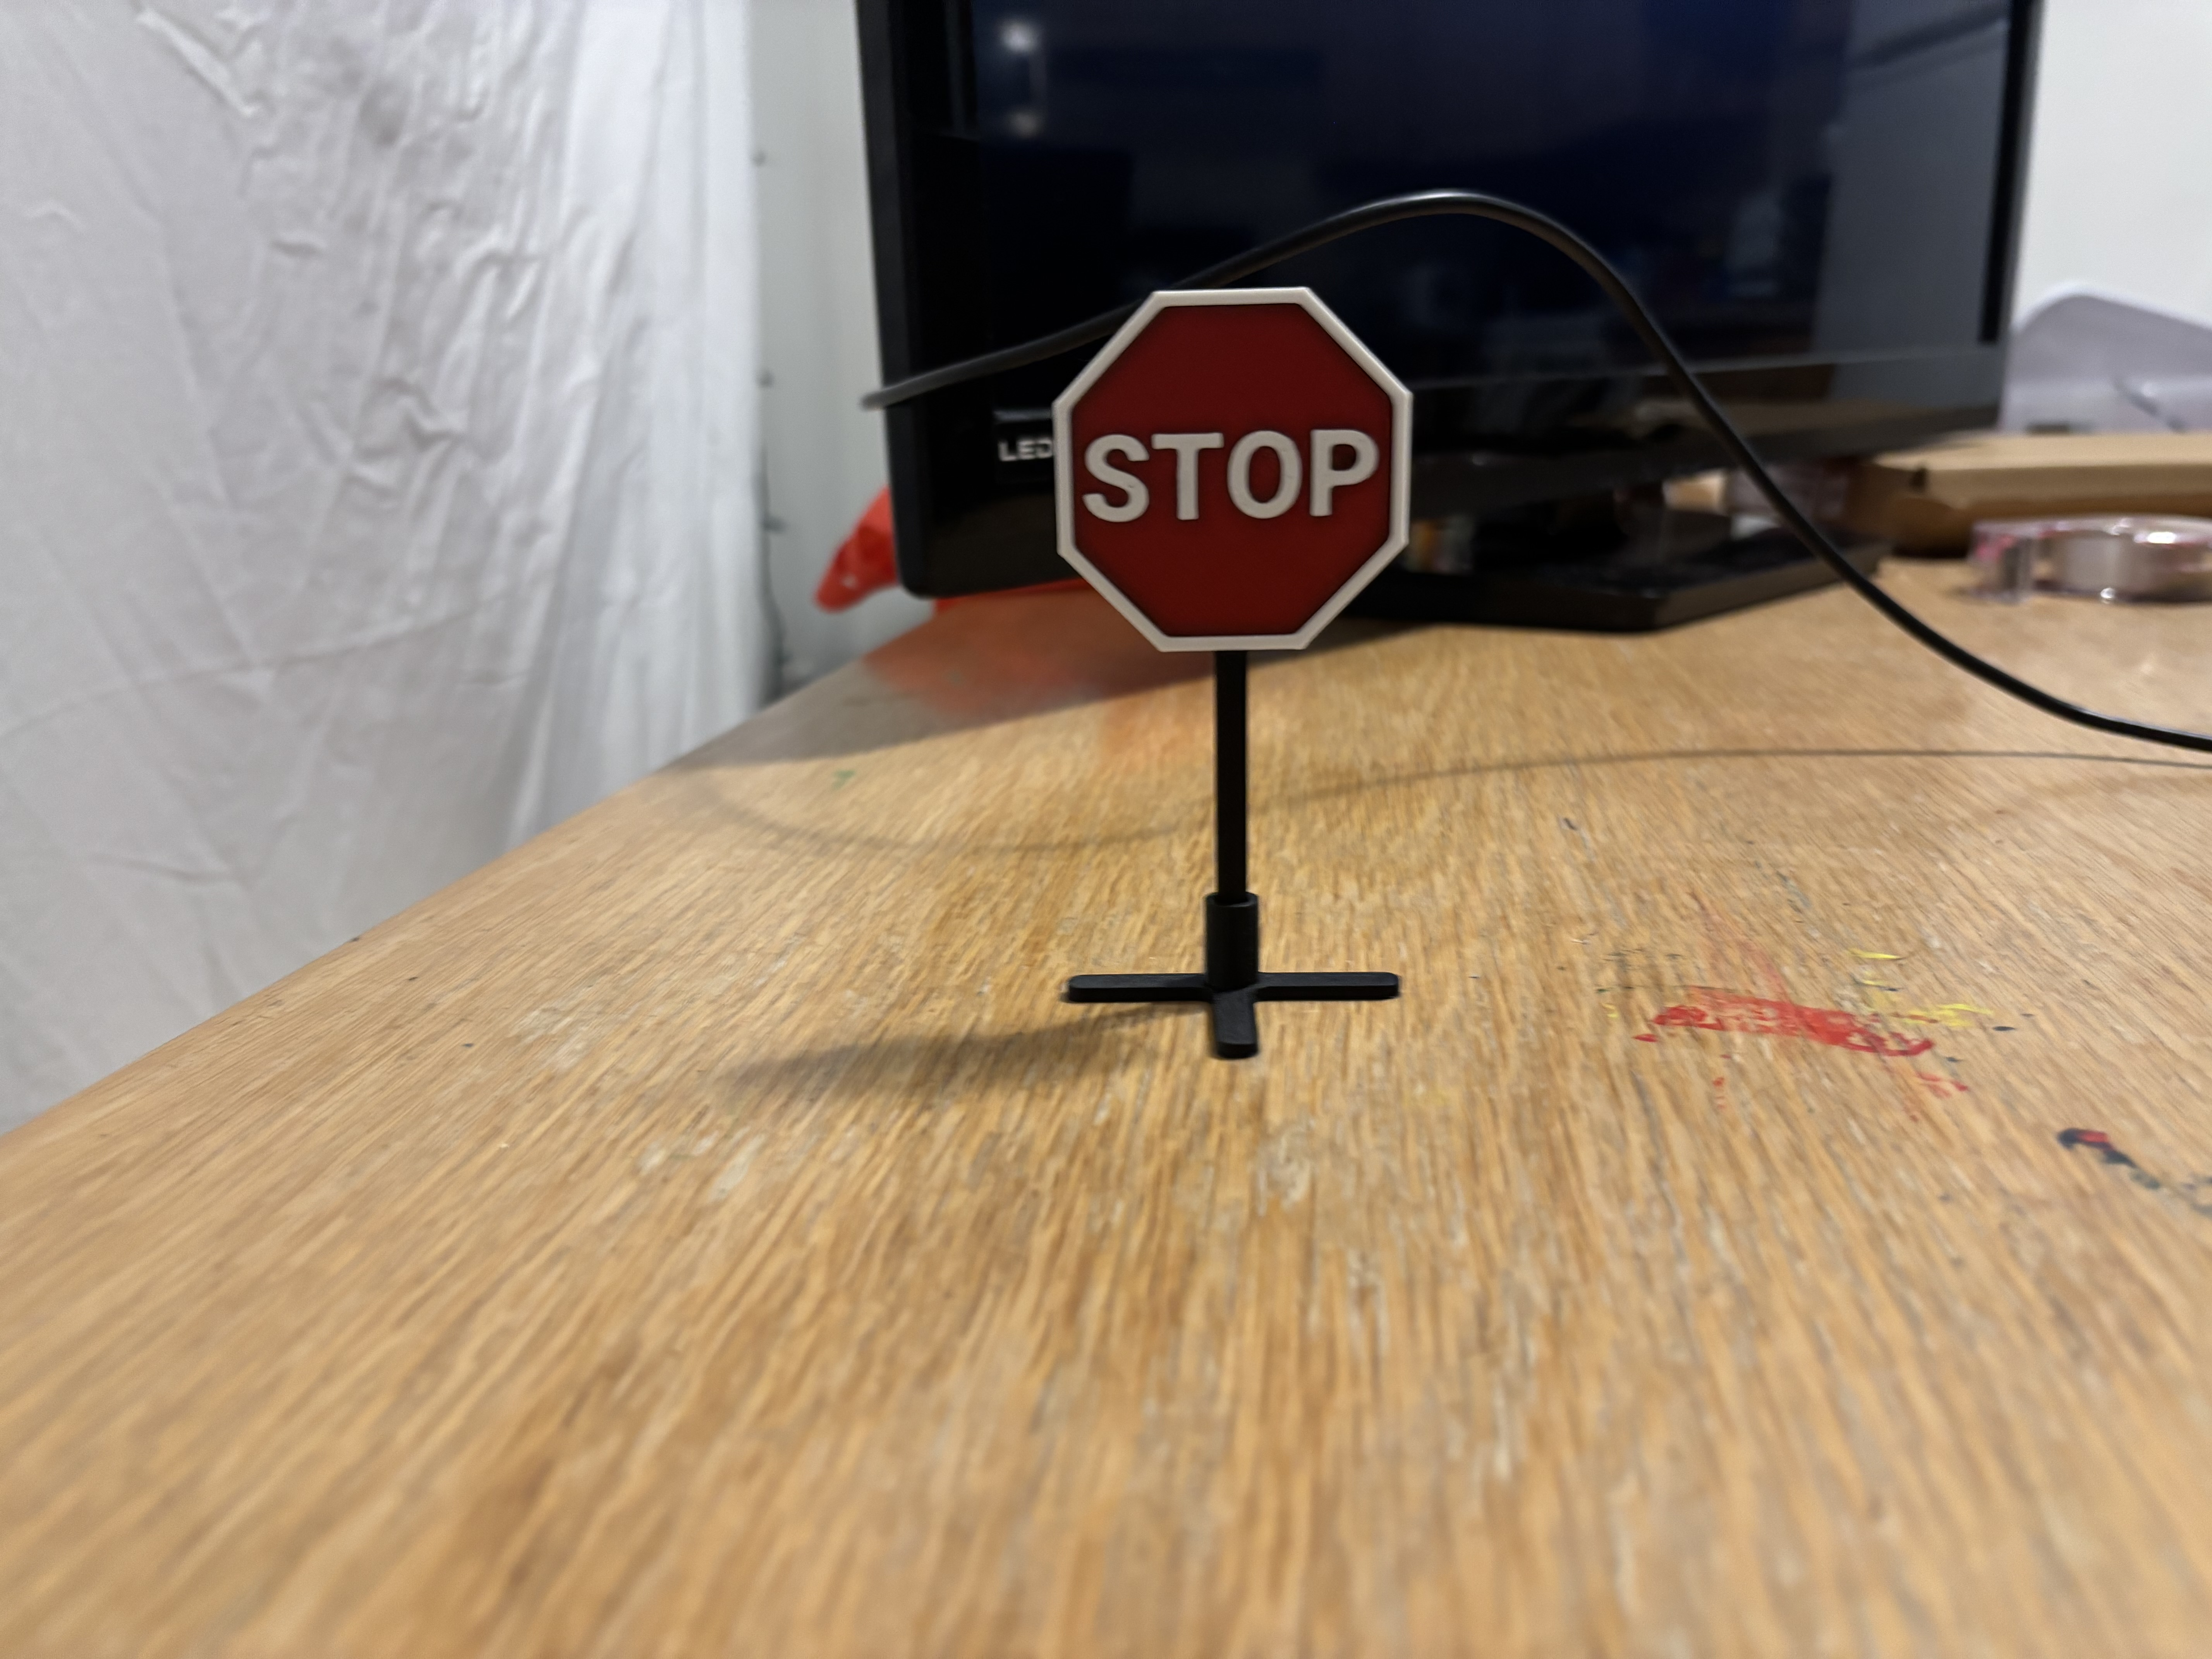sign_stop: (1049, 288, 1416, 643)
